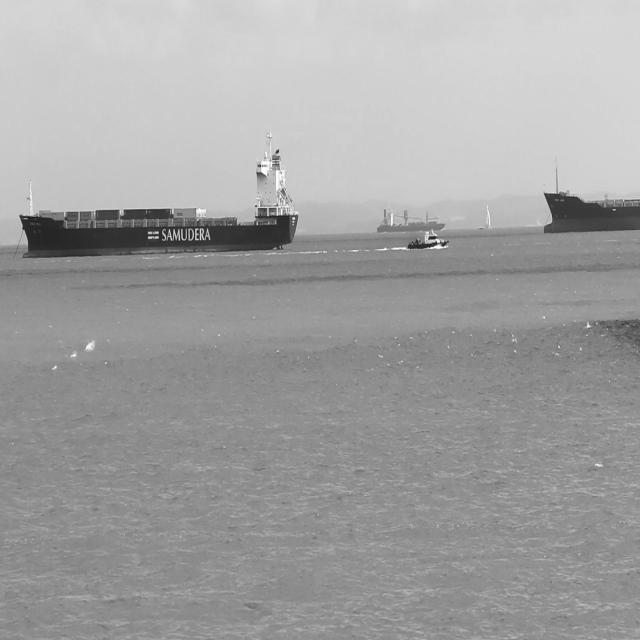boat: (484, 205, 492, 231)
ship: (19, 131, 299, 259), (544, 153, 639, 234), (376, 206, 446, 234), (406, 229, 449, 251)
